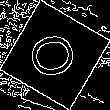O_E: (25, 28, 85, 82)
